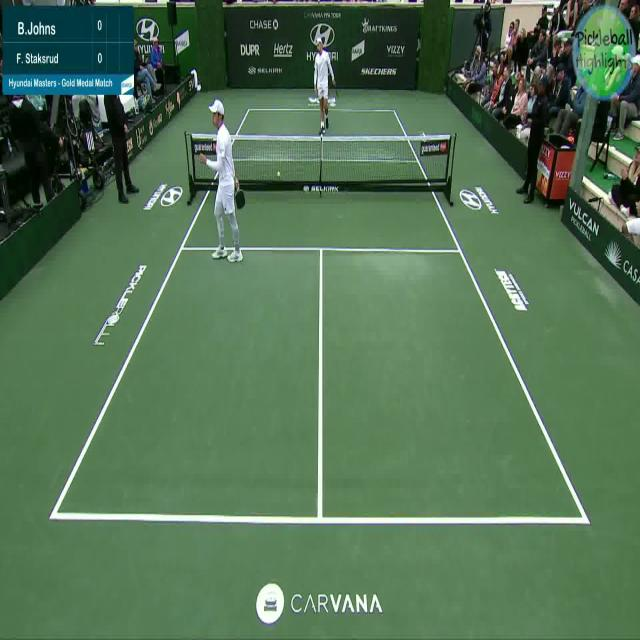ball: (275, 167, 282, 178)
